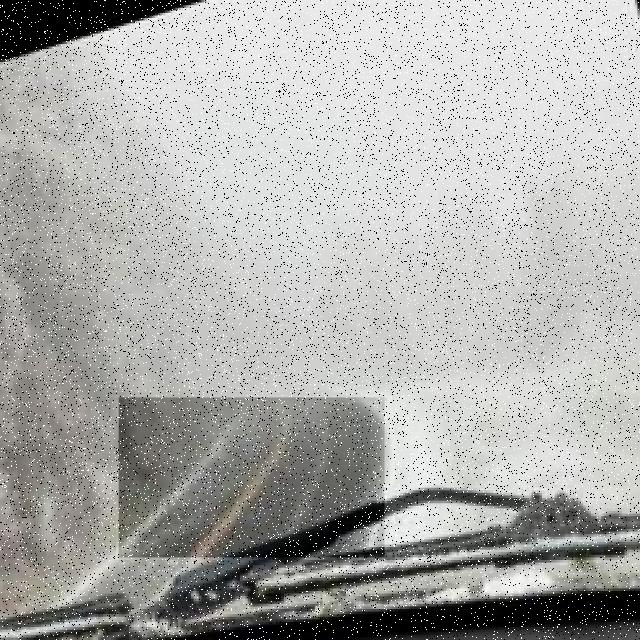ice-road: (121, 399, 385, 557)
